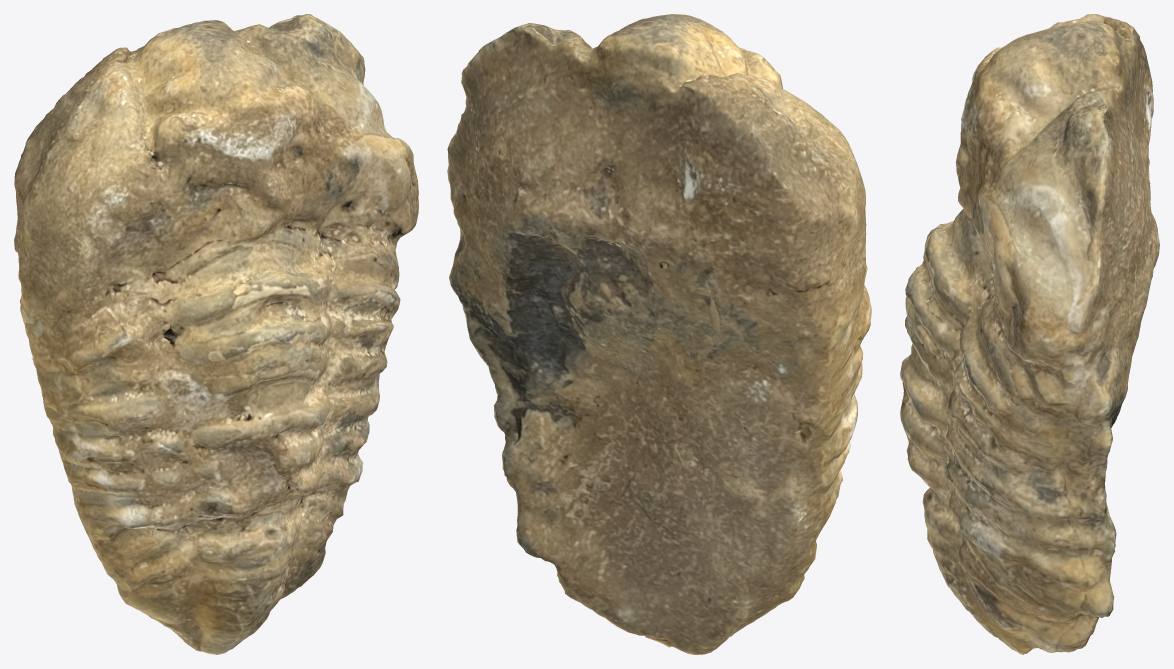
Rendered from Trimod.glb.
3 views of the same model, side by side, from view 1: azimuth 30°, elevation 25°; view 2: azimuth 150°, elevation 25°; view 3: azimuth 270°, elevation 25° (orthographic). The views are drawn at different scales.
Parts seen in each view (by area): view 1: Object_2; view 2: Object_2; view 3: Object_2.
Boxes of the visible parts, bbox=[...] form: Object_2: bbox=[14, 14, 418, 654]; Object_2: bbox=[447, 14, 871, 654]; Object_2: bbox=[900, 14, 1159, 654].
Size of the model in its own units: 1.8 by 2.74 by 1.03.
1 material, 1 textured.
